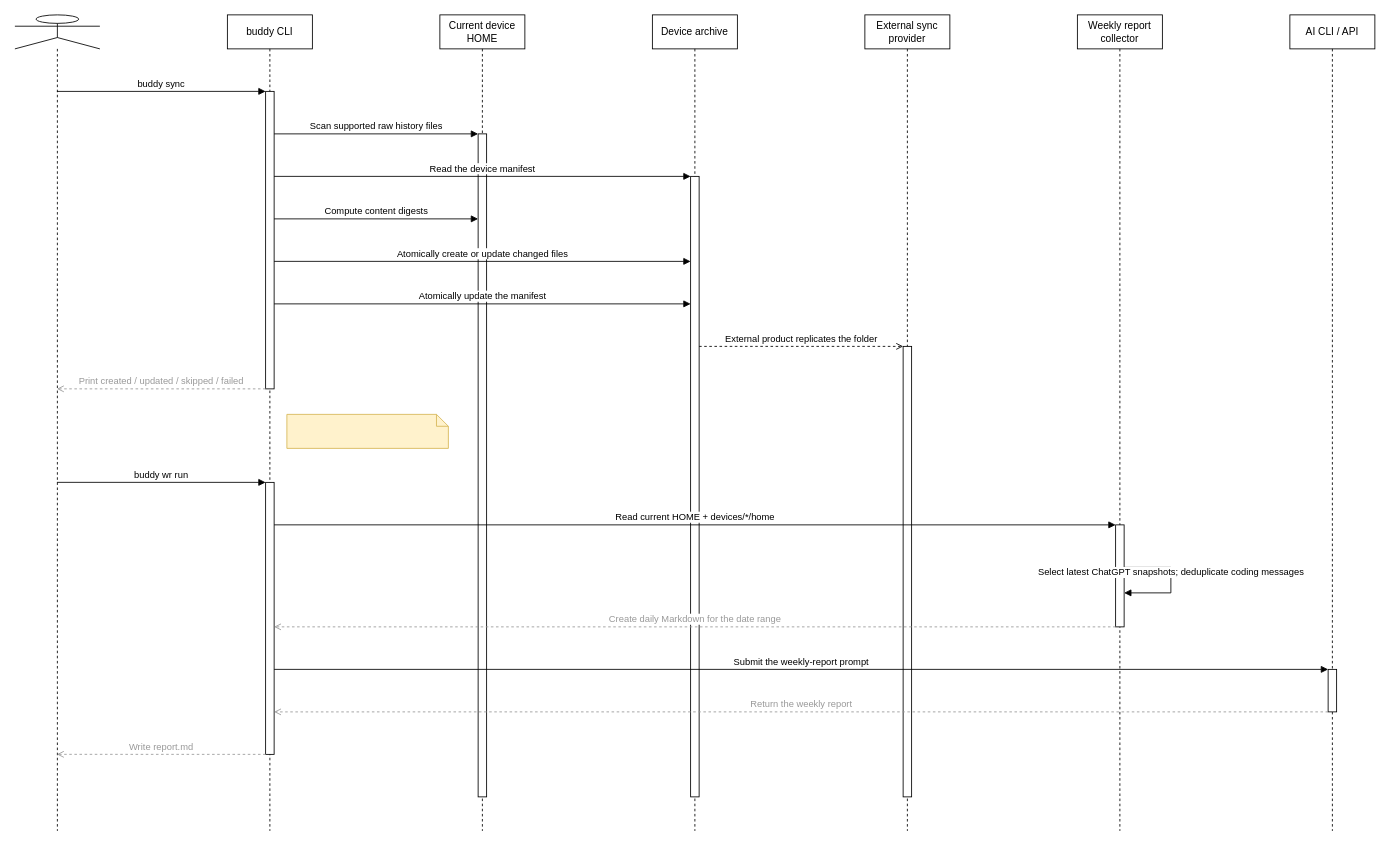
Some shapes in this 1390 by 846 pixel diagram are drawn without their labels. The box of each missing label's shape, as (x1, y1, x2, y2) in pixels:
User: (14, 14, 100, 831)
With [sync] configured, wr run performs sync first; --no-sync skips it: (286, 414, 448, 448)
